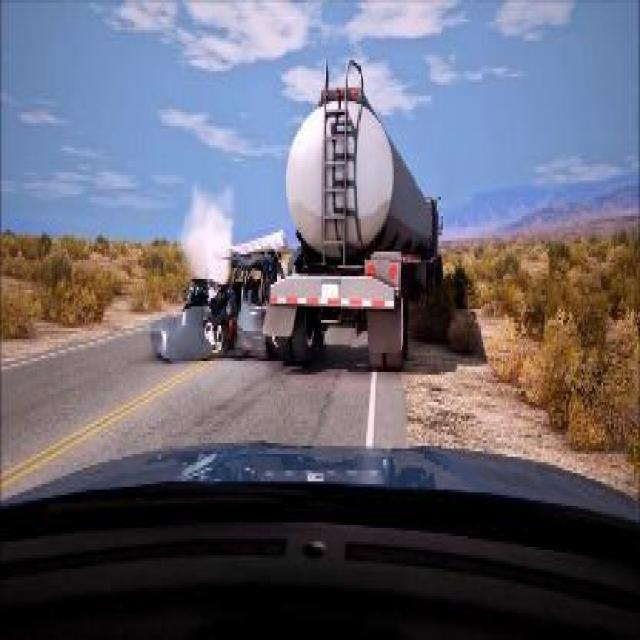accident: (148, 58, 444, 378)
